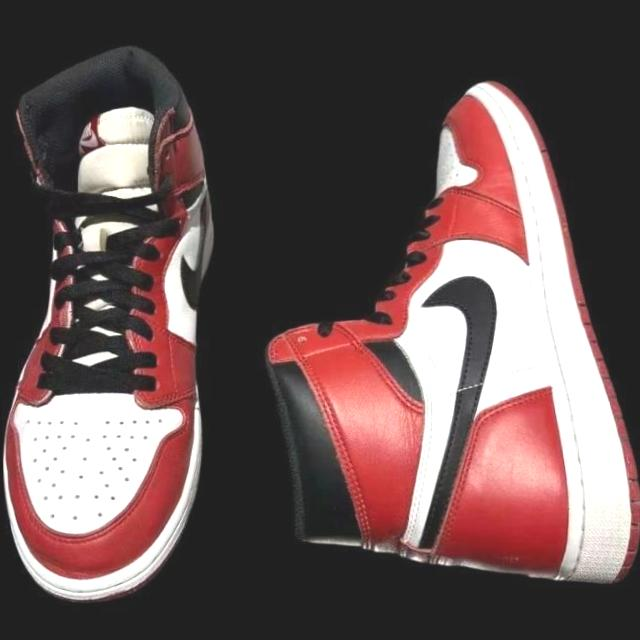nike_original_jordan: (263, 76, 640, 597), (0, 46, 226, 607)
